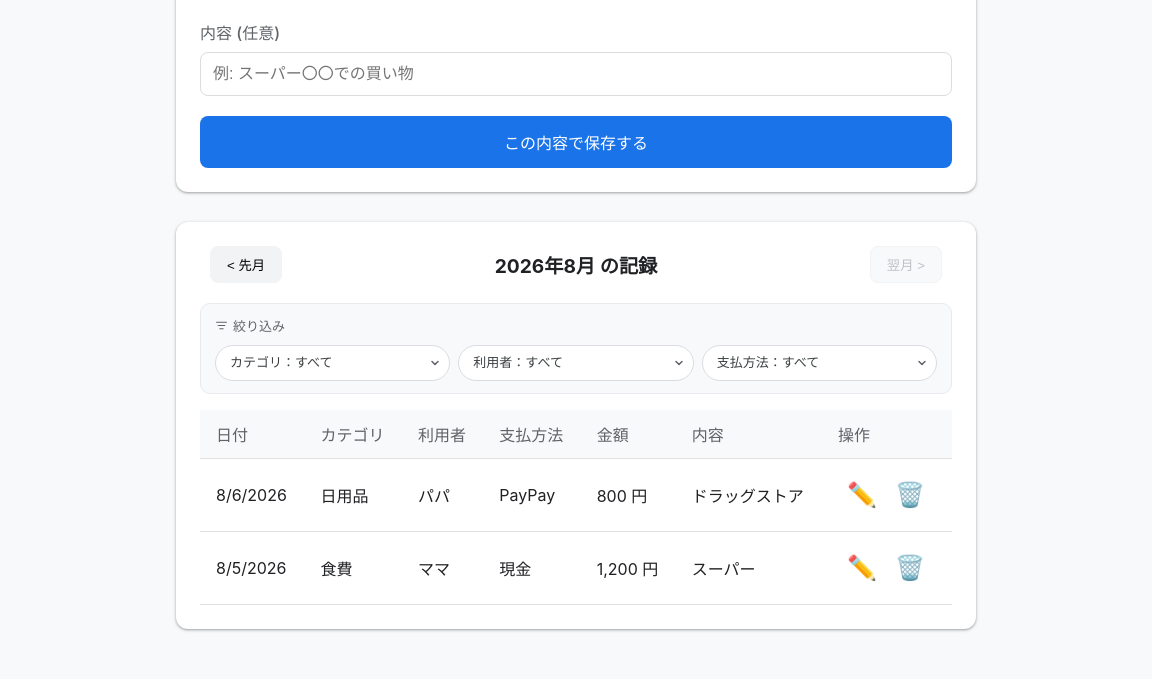
Test case: 行が変わっていなければ削除が実行される
The width and height of the screenshot is (1152, 679).
(page scrolled)
Expected: the text "スーパー" is shown, [676,531,822,604]
Click the button named "削除": (910, 495) [886,471,934,519]
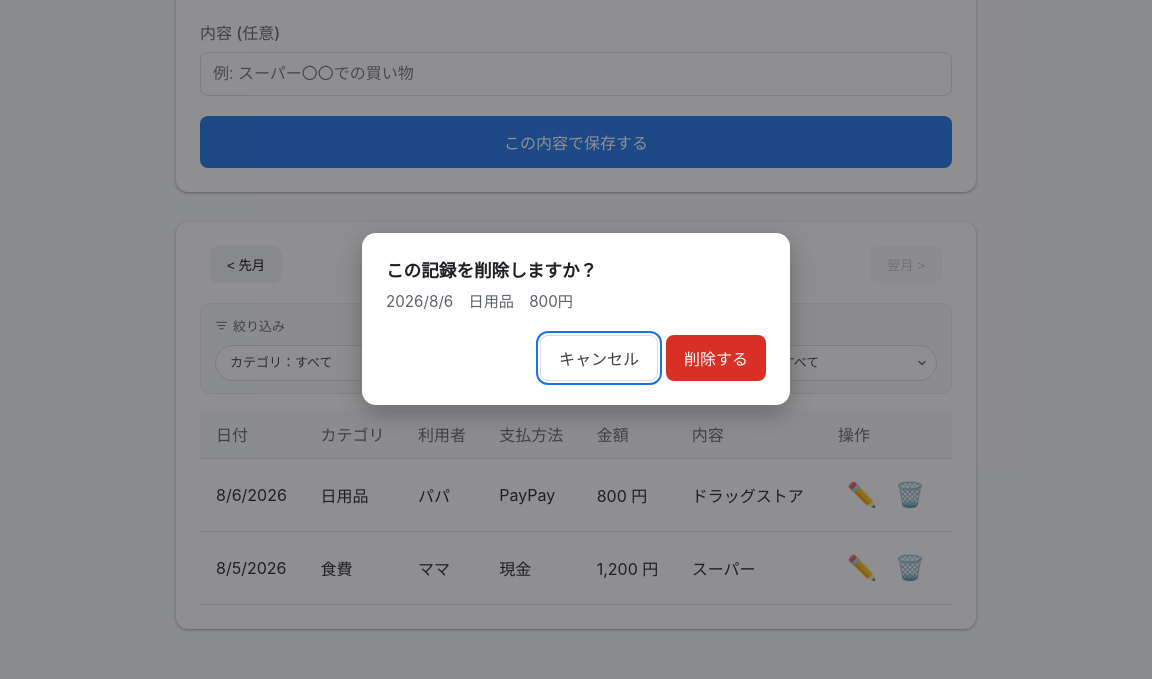
Click the button "削除する": (716, 358) [666,335,766,381]
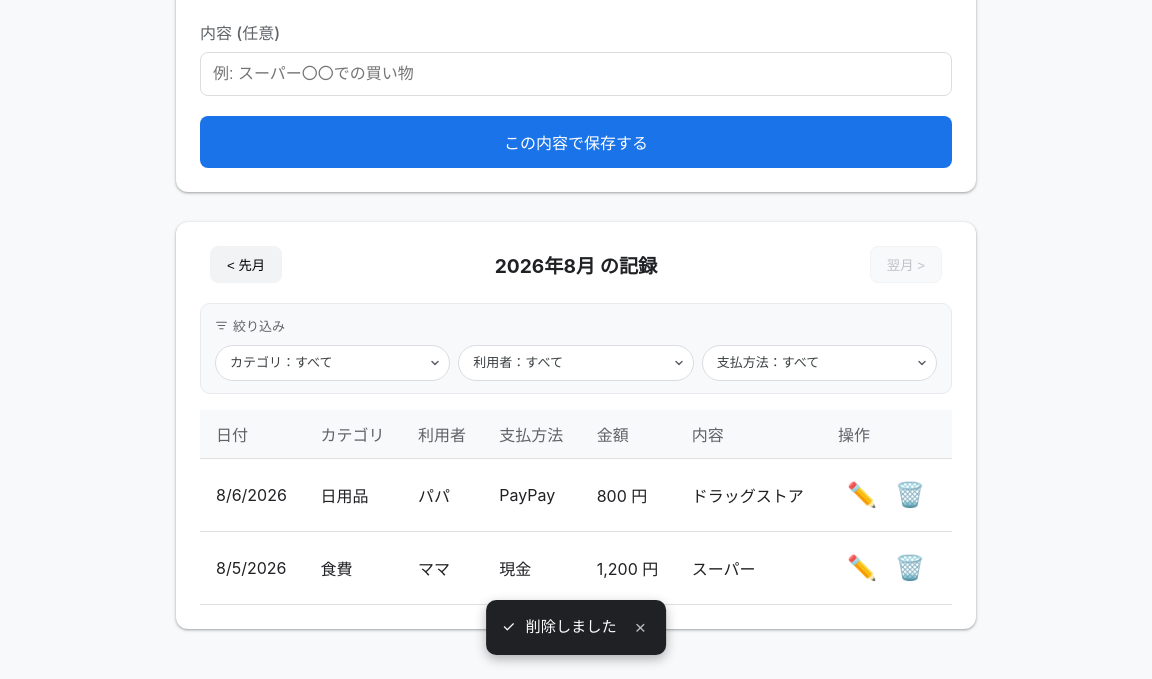
Expected: the text "削除しました" is shown, [526,616,617,639]
